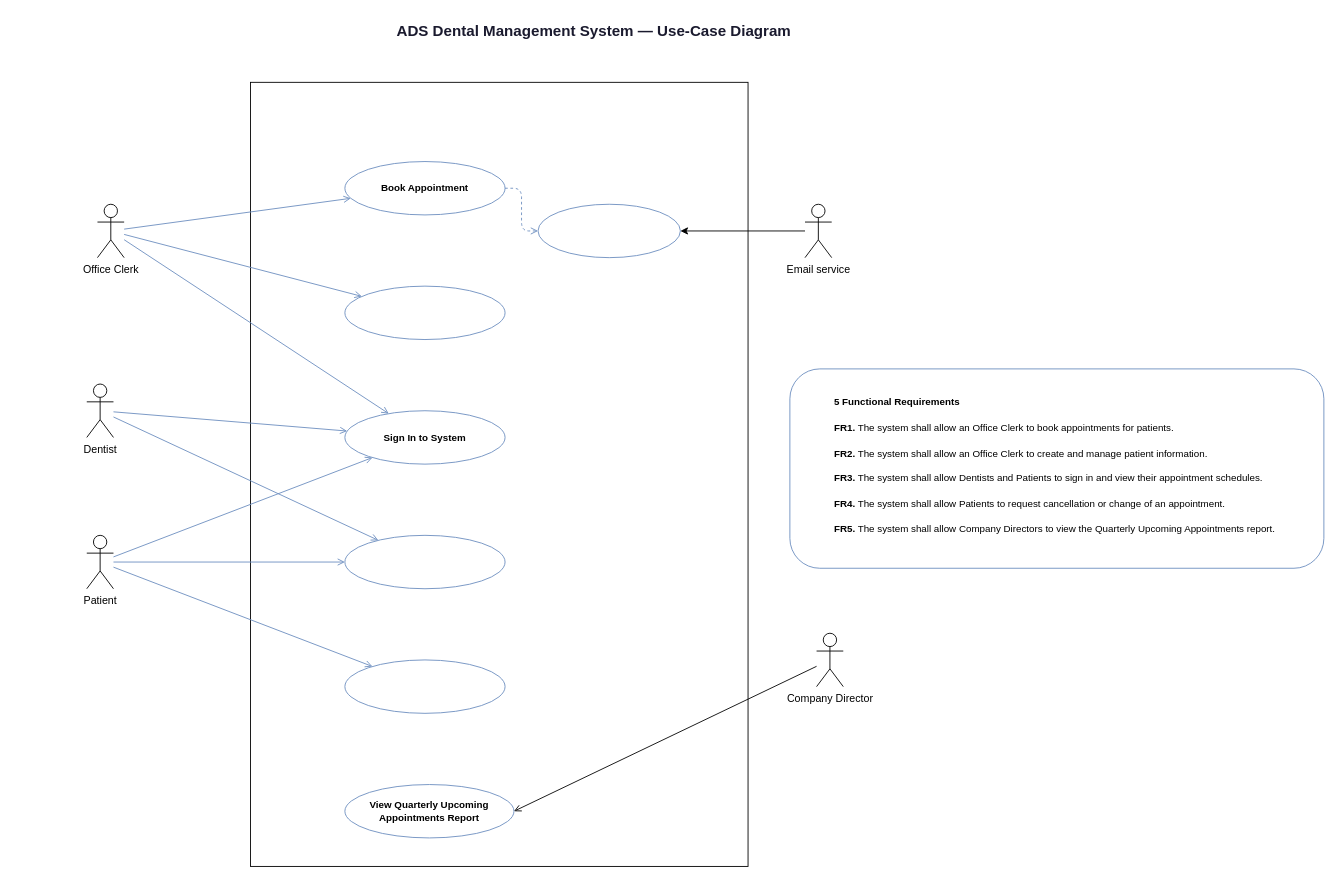
The diagram is 1341 pixels wide and 882 high, and some of its shapes have lost their labels. Each missing label, with the centre of its shape:
"Manage Patient Information" belongs at (x=424, y=312).
"Request Cancel / Change Appointment" belongs at (x=424, y=686).
"Send Confirmation Email" belongs at (x=608, y=230).
"View Appointment Schedule" belongs at (x=424, y=561).
